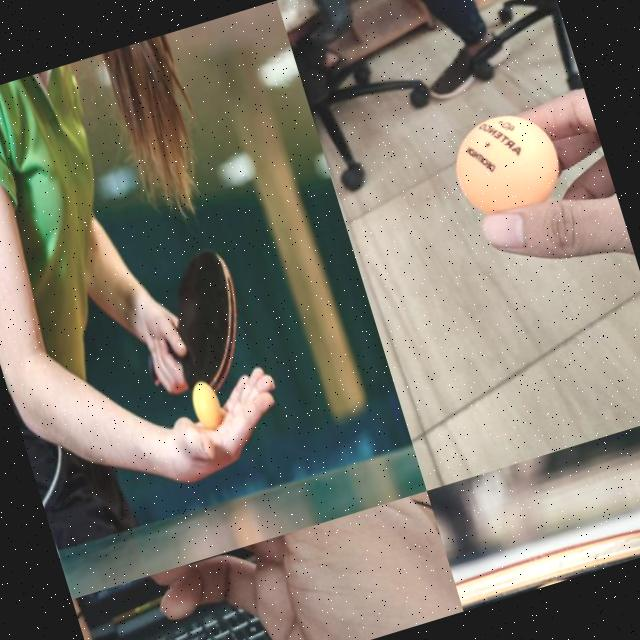ping-pong-ball: (444, 101, 570, 223), (514, 566, 588, 594), (186, 378, 223, 432)
